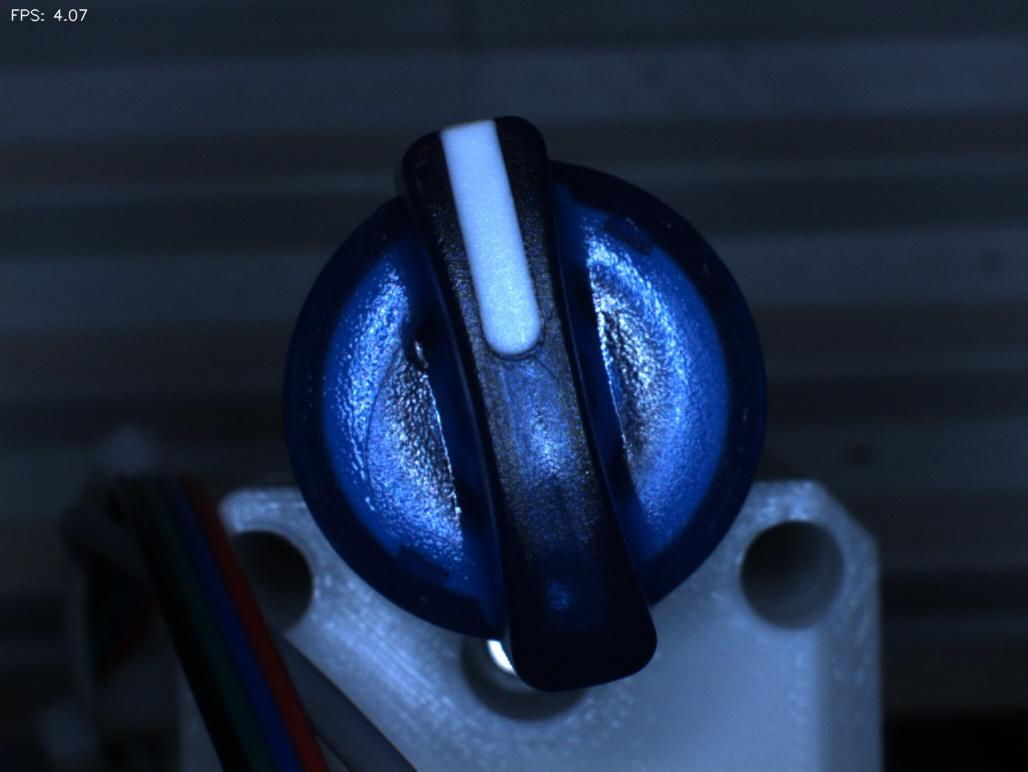Choc: (374, 291, 454, 386)
